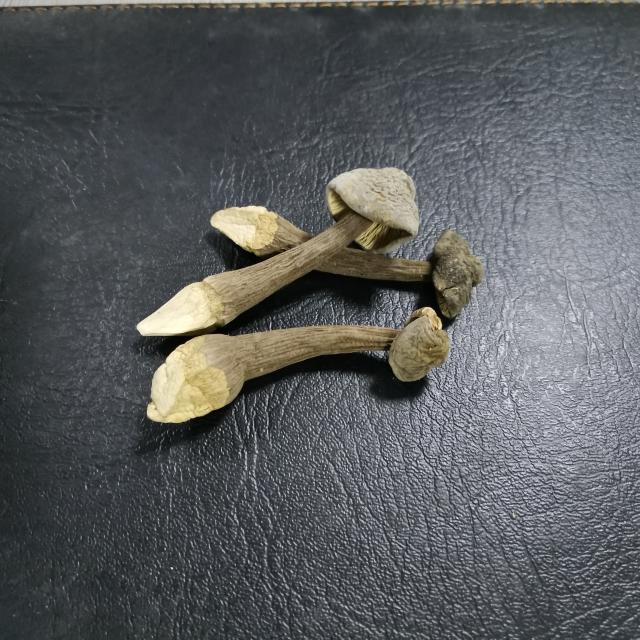Collybia albuminosa: (140, 165, 418, 325), (135, 308, 451, 425), (207, 201, 486, 310)
